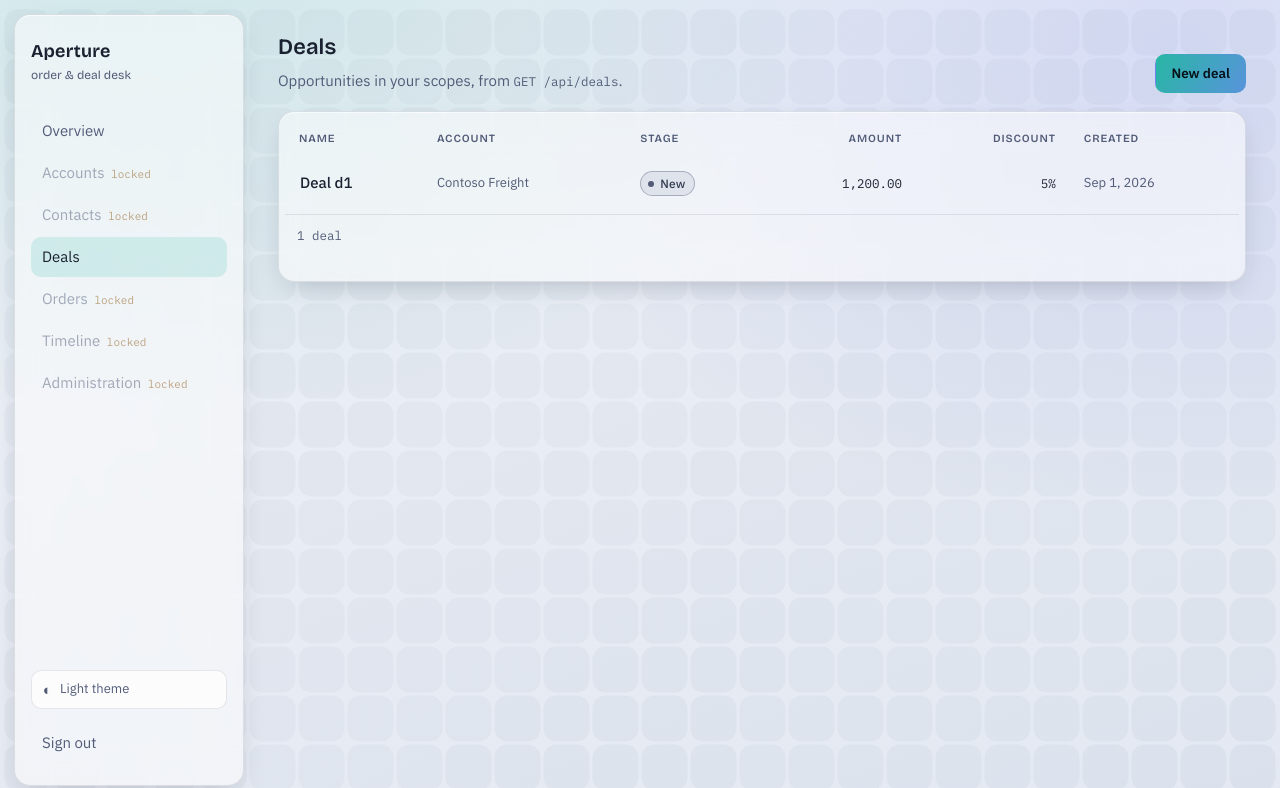
Scenario: Deal detail › Given a deal with lines, when it is selected, then the detail shows its lines while the grid omits them, and the URL names the deal
Check: the text "WIDGET-9" is not shown
Step 1. Click the row with test id "deal-row-d1" → point(326, 183), box left=285, top=158, right=1239, bottom=208
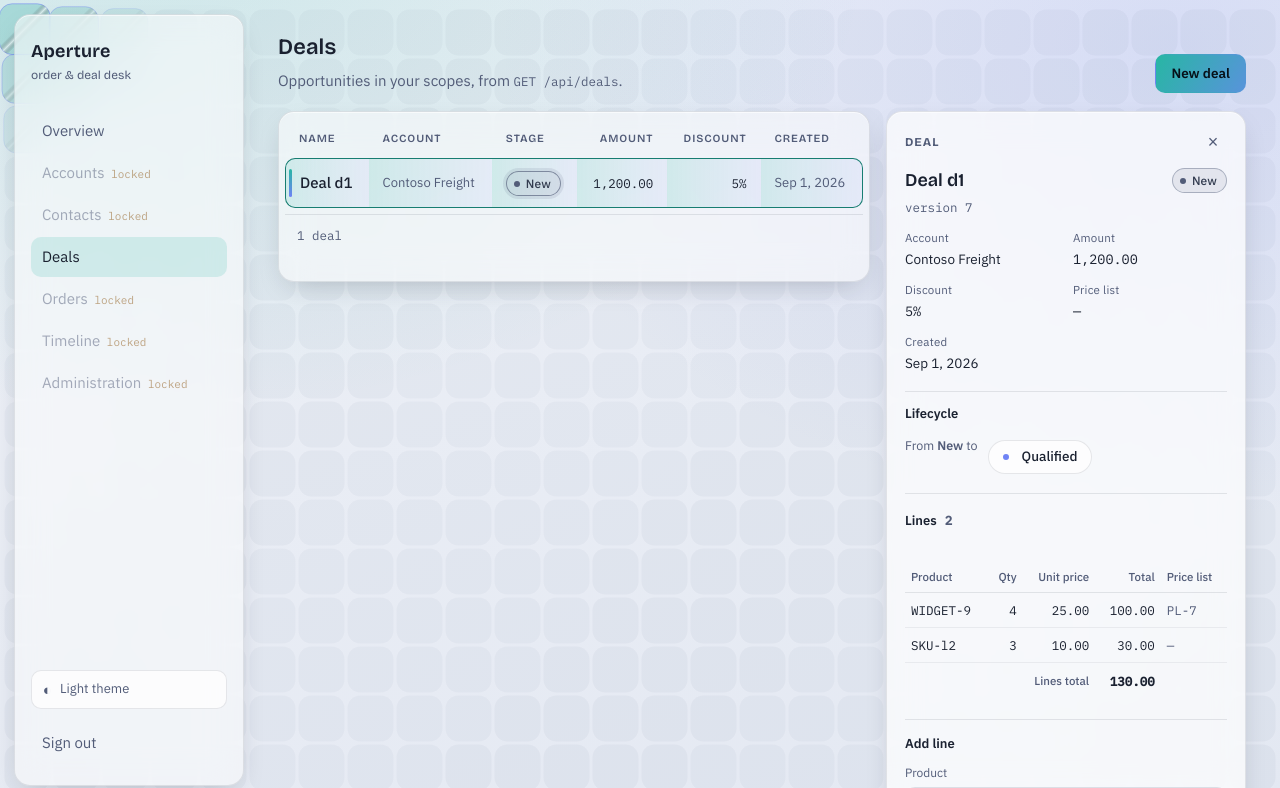
Check: the row with test id "line-l1" shows "WIDGET-9", box left=911, top=602, right=971, bottom=618
Check: the row with test id "line-l1" shows "4", box left=1009, top=602, right=1017, bottom=618
Check: the row with test id "line-l1" shows "25.00", box left=1052, top=602, right=1089, bottom=618
